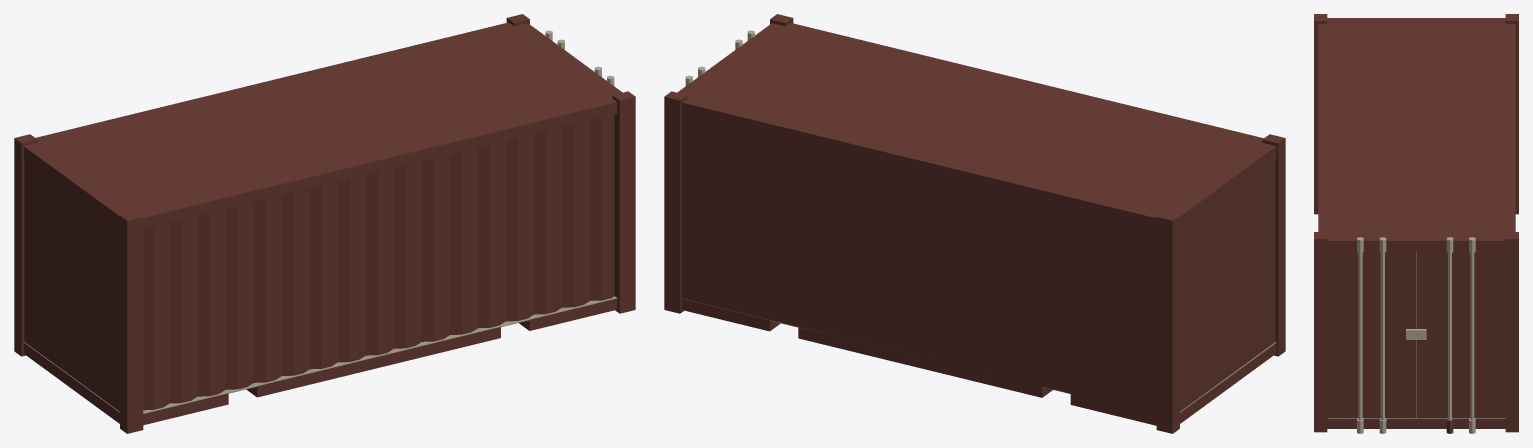
The model's file is container01.fbx.
The picture shows the model from 3 angles, left to right: view 1: azimuth 30°, elevation 25°; view 2: azimuth 150°, elevation 25°; view 3: azimuth 270°, elevation 25°; orthographic projection. The views are drawn at different scales.
Parts seen in each view (by area): view 1: parede_frente, teto_container, parede_esq, quinas, base_container, chao_contaienr, teto_interno; view 2: parede_fundo, teto_container, parede_esq, quinas, base_container; view 3: teto_container, porta_dir, porta_esq, quinas, base_container, detalhes_porta_esq, detalhes_porta_dir, detalhes_porta_02, chao_contaienr, tranca_porta.
Boxes of the visible parts, x1,y1,x2,y2 form: parede_frente: (143,114,614,410); teto_container: (23,22,622,228); parede_esq: (24,158,119,411); quinas: (14,14,635,433); base_container: (23,298,617,425); chao_contaienr: (24,296,616,413); teto_interno: (24,113,616,228); parede_fundo: (682,110,1156,414); teto_container: (677,23,1276,226); parede_esq: (1180,158,1275,411); quinas: (664,14,1285,433); base_container: (682,299,1276,425); teto_container: (1318,18,1515,250); porta_dir: (1416,251,1505,417); porta_esq: (1327,251,1416,417); quinas: (1314,14,1518,432); base_container: (1327,418,1505,428); detalhes_porta_esq: (1358,252,1384,420); detalhes_porta_dir: (1448,252,1474,420); detalhes_porta_02: (1357,237,1475,433); chao_contaienr: (1327,251,1505,418); tranca_porta: (1406,329,1426,339).
Size of the model in its own units: 23.06 by 9.18 by 8.81.
